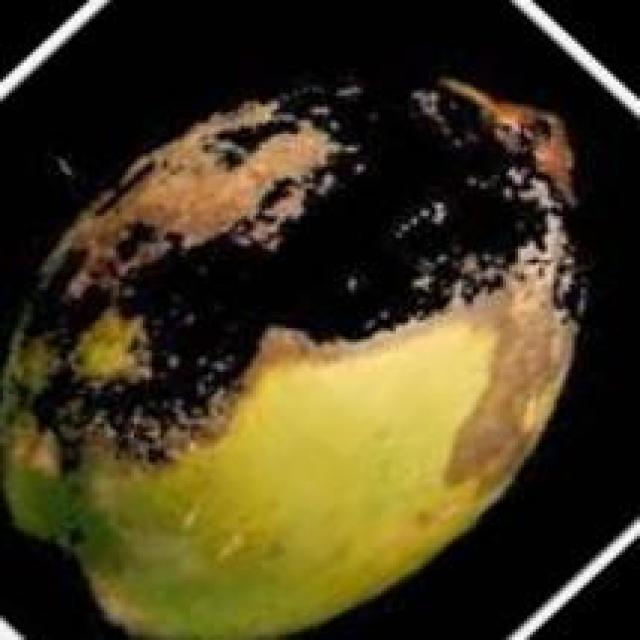damaged: (0, 63, 607, 635)
